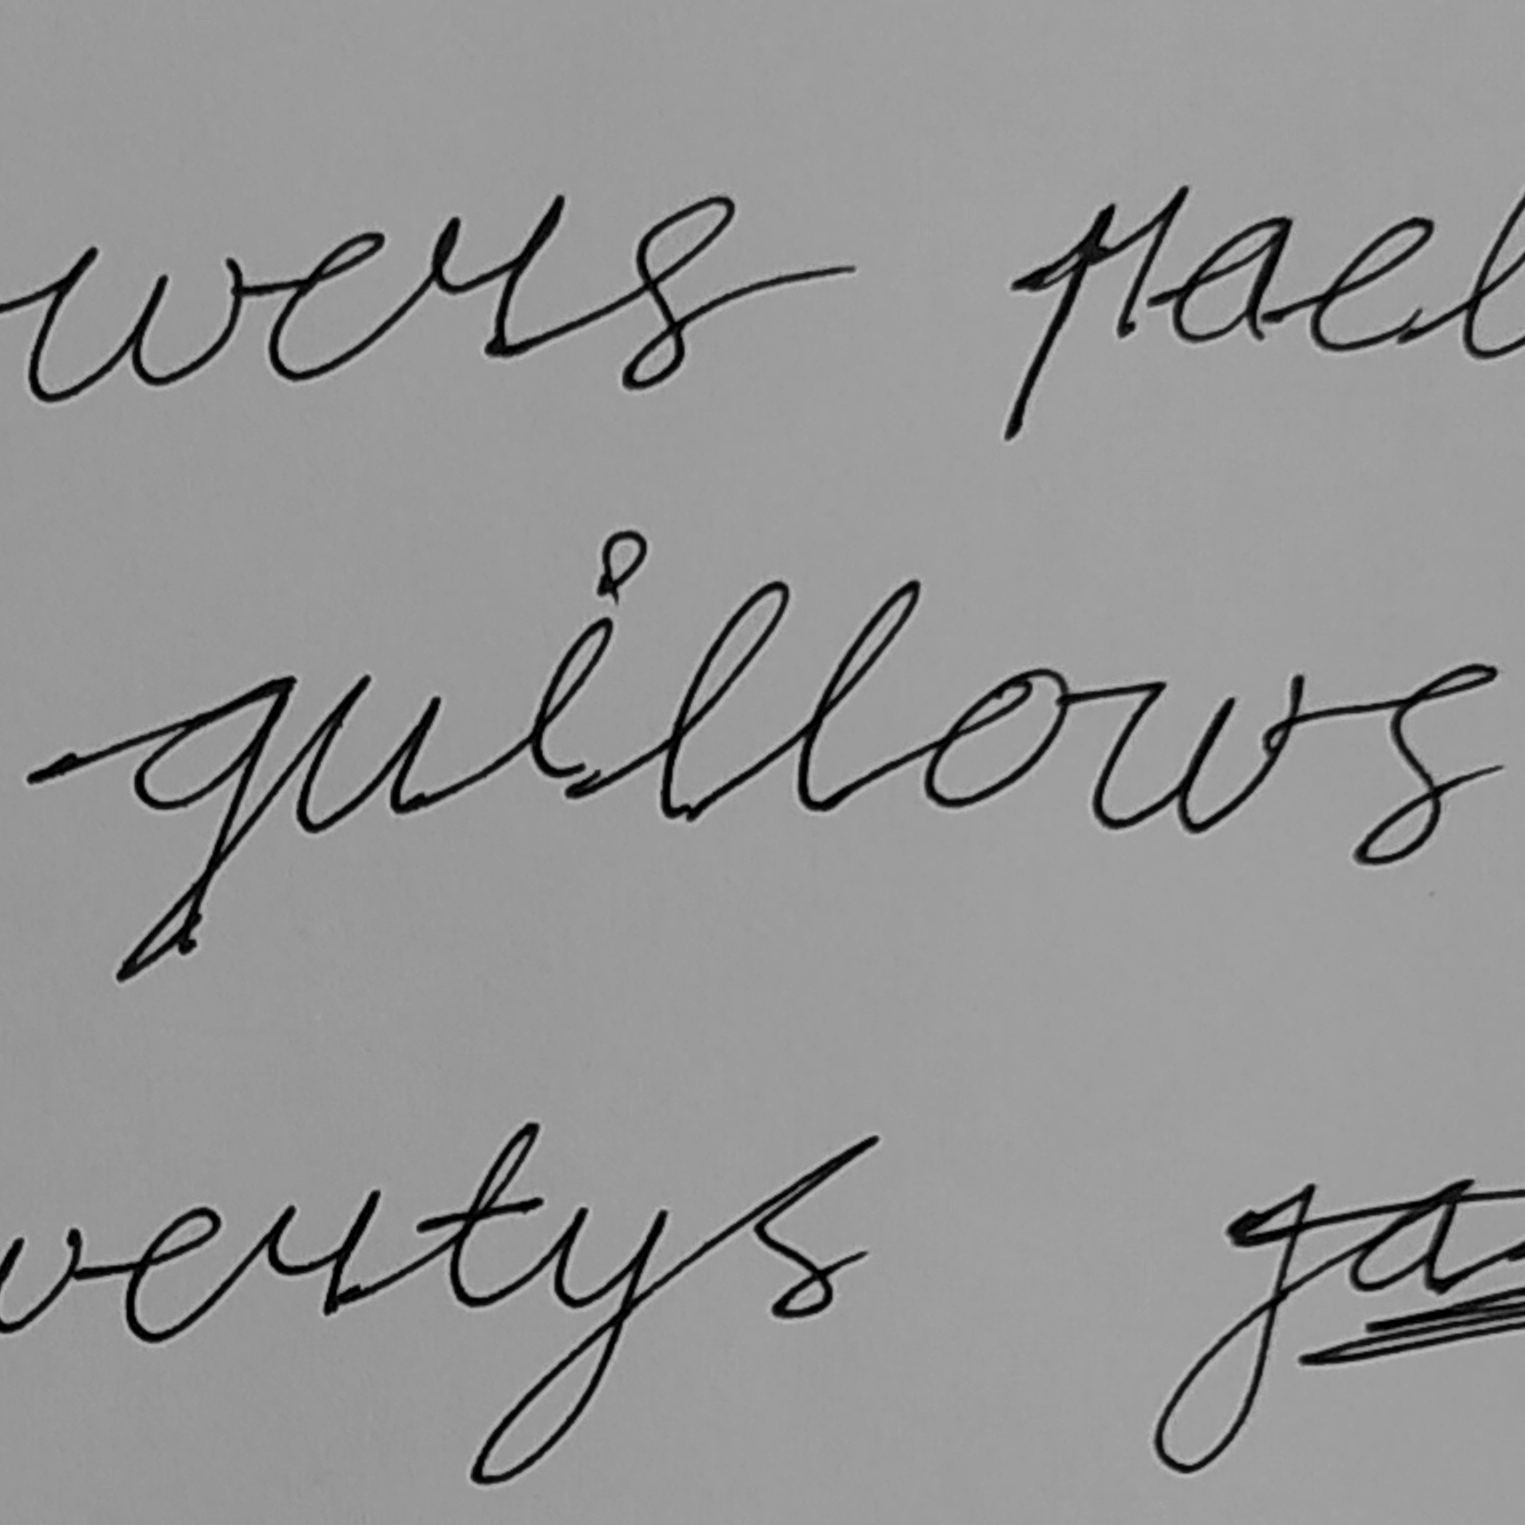i: (524, 526, 651, 803)
l: (654, 577, 793, 823), (793, 575, 922, 816)
o: (923, 663, 1074, 811)
q: (109, 670, 302, 986)
s: (1348, 661, 1501, 869)
u: (290, 669, 444, 837)
w: (1089, 669, 1307, 837)
